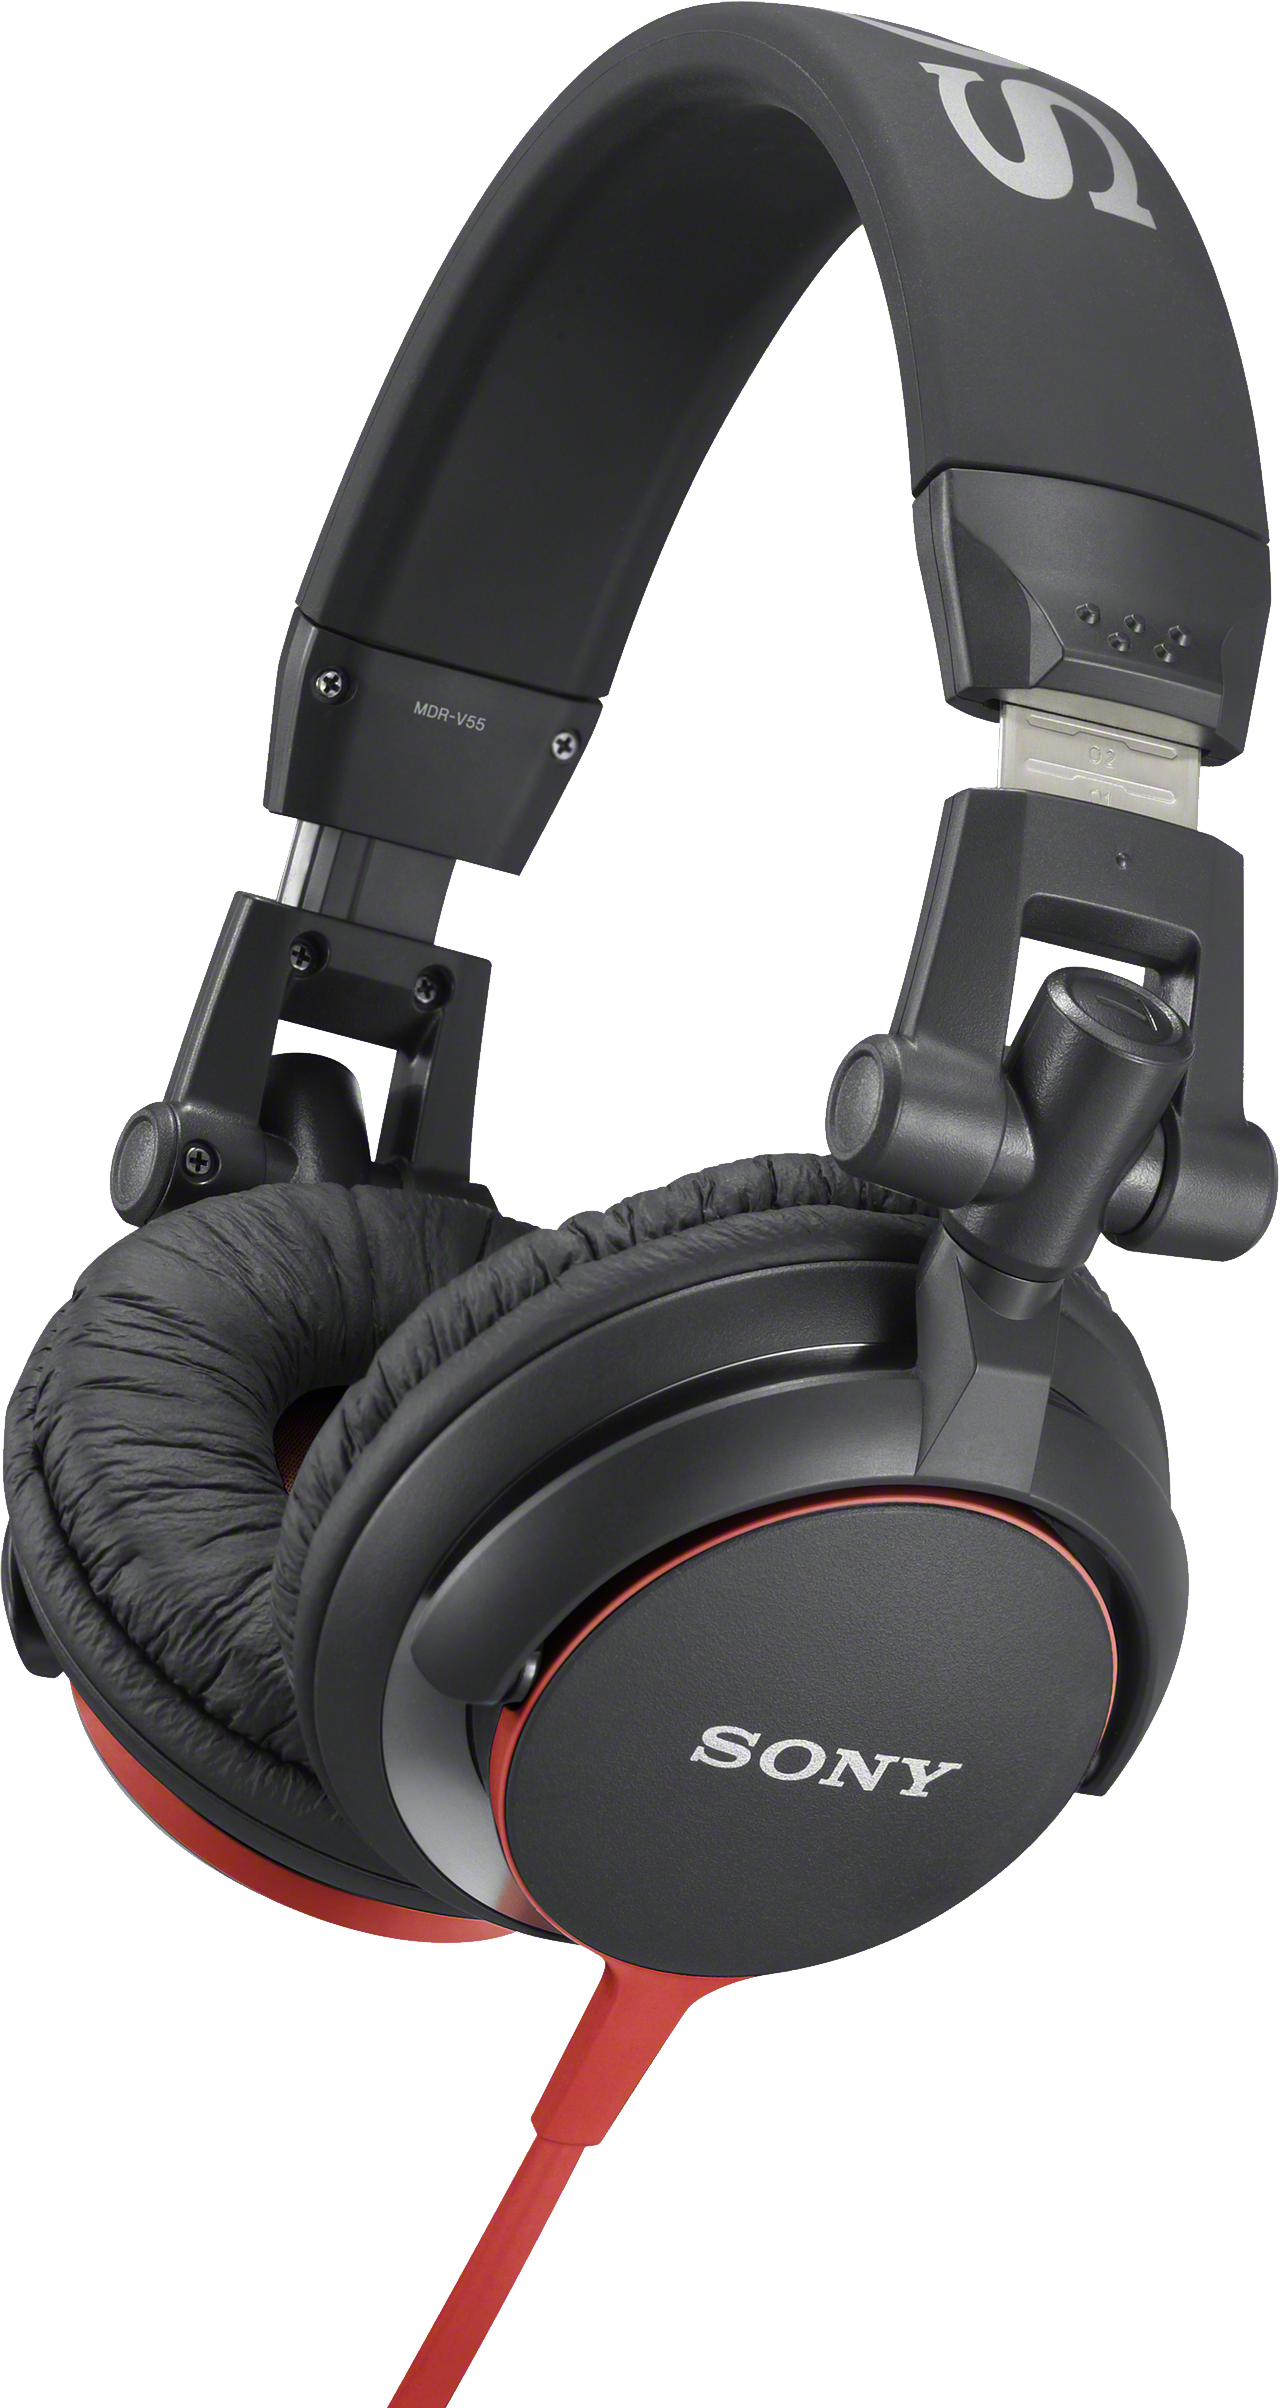headphone: (16, 19, 1280, 1999)
